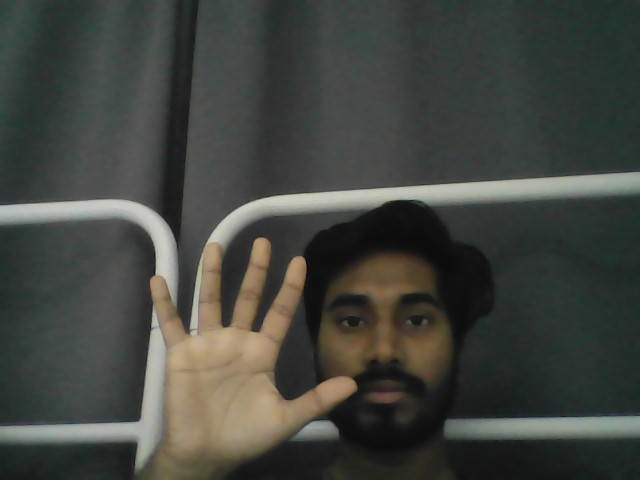hello: (147, 236, 360, 473)
